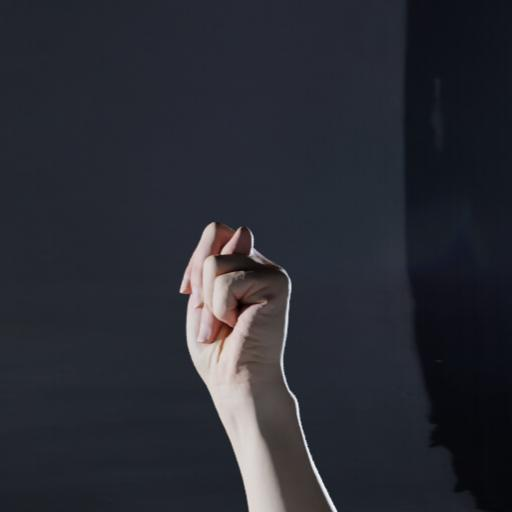N: (161, 204, 333, 465)
